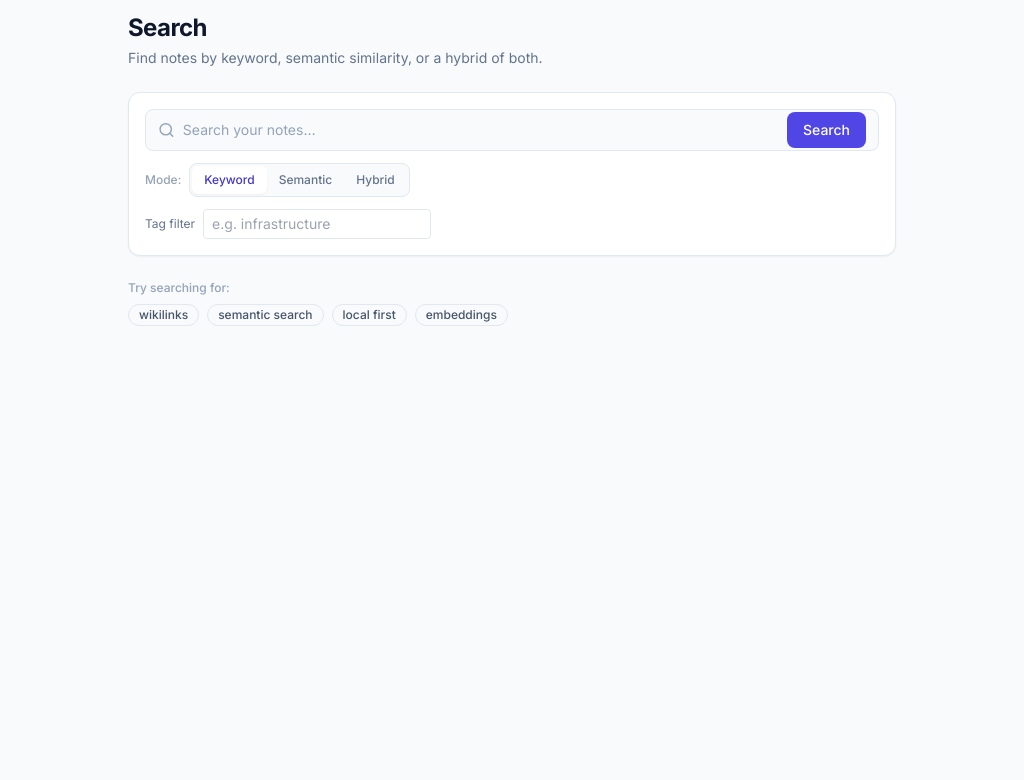
Test: SearchPage (demo mode, no backend) › renders results and a demo badge when the backend is offline
In the field named "Search query": (481,130) [183,110,779,150], type "wikilinks"
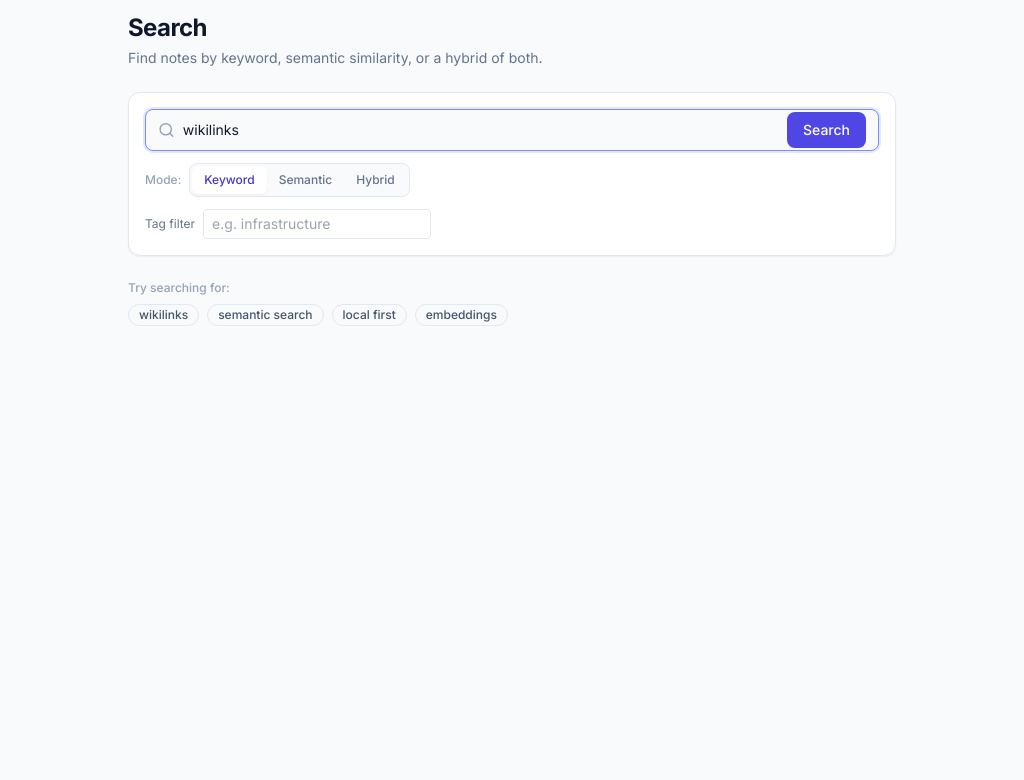
Click the button "Search": (826,130) [787,112,866,148]
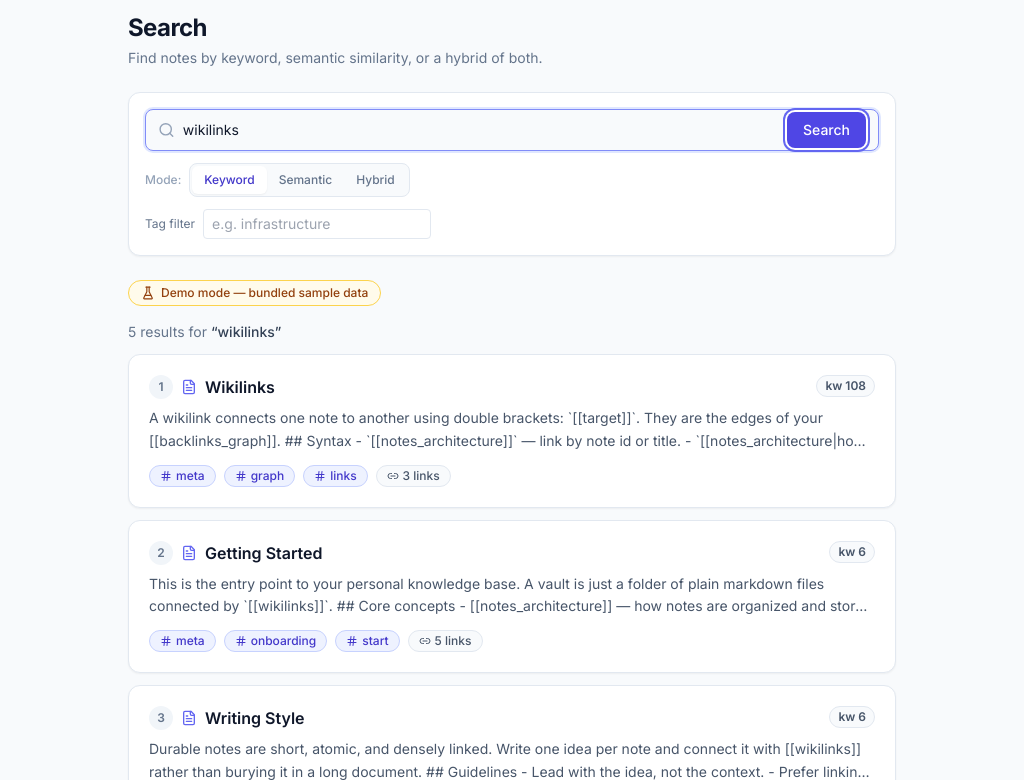
Result: the element with test id "demo-badge" is shown at [128,280,381,306]
Result: the link with test id "search-result" that starts with "Wikilinks" is shown at [128,354,896,508]
Result: the heading "Wikilinks" is shown at [205,375,275,399]
